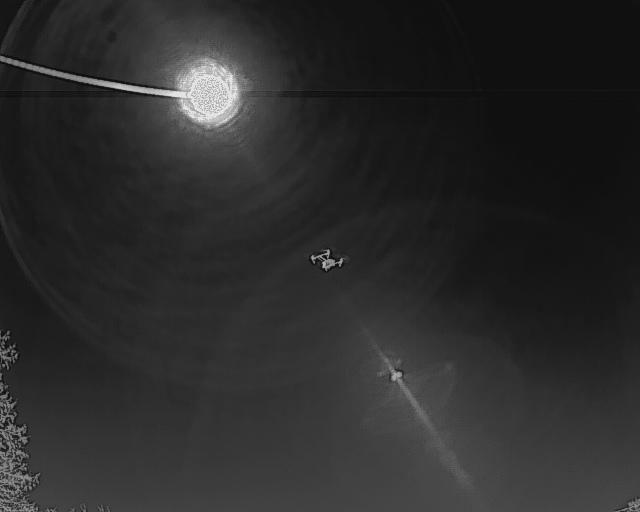drone: (308, 245, 350, 279)
